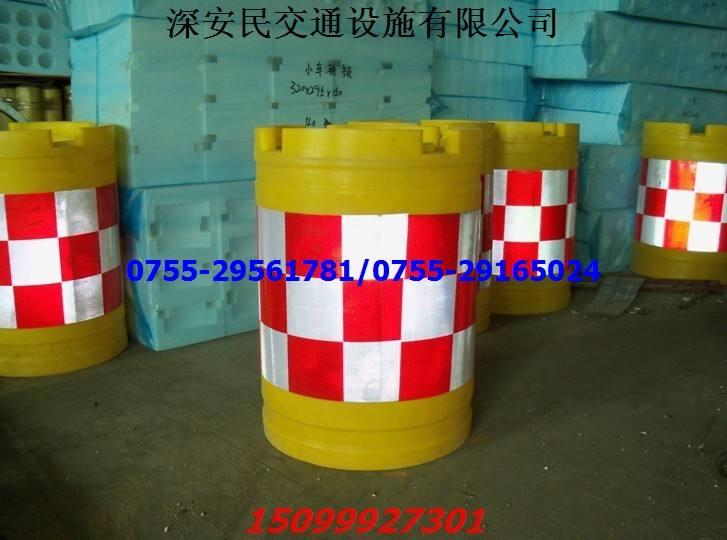sign: (236, 112, 484, 472), (1, 109, 138, 364), (488, 109, 578, 320), (624, 105, 727, 285)
